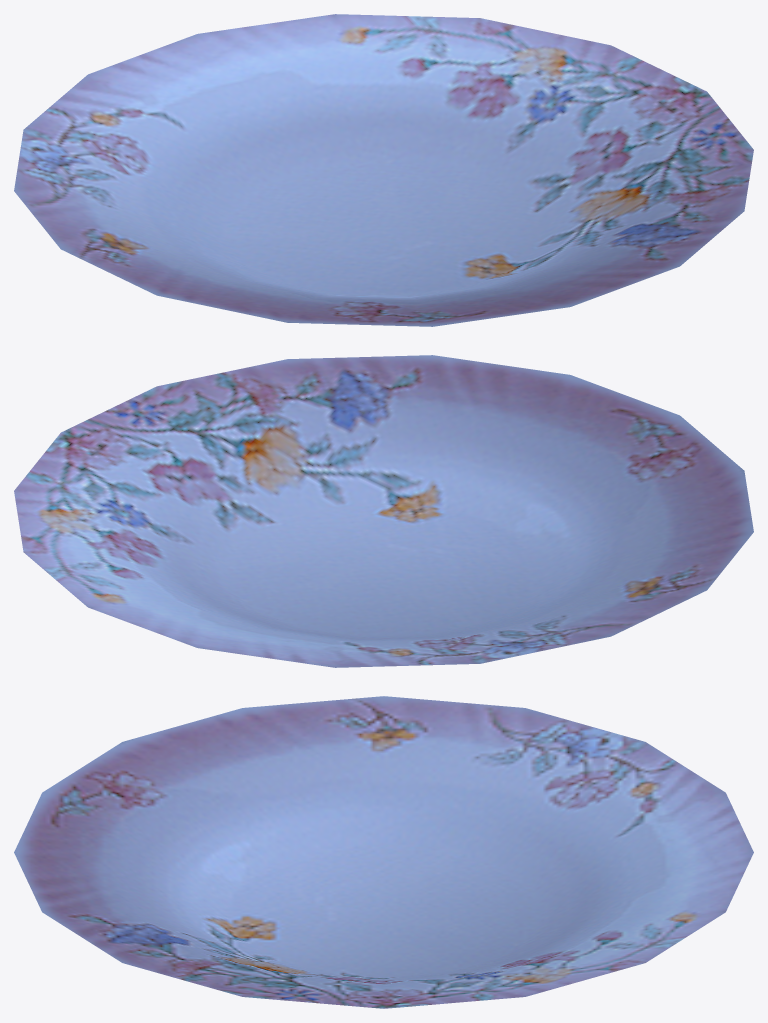
The model's file is dish-5.FBX.
The picture shows the model from 3 angles, top to bottom: view 1: azimuth 30°, elevation 25°; view 2: azimuth 150°, elevation 25°; view 3: azimuth 270°, elevation 25°; orthographic projection.
Parts seen in each view (by area): view 1: Line01; view 2: Line01; view 3: Line01.
Part boxes in pixels (x1=…): Line01: x1=14, y1=14, x2=753, y2=326; Line01: x1=14, y1=355, x2=753, y2=667; Line01: x1=14, y1=696, x2=753, y2=1008.
Bounding box in the file's own units: 18 × 2.01 × 18.
